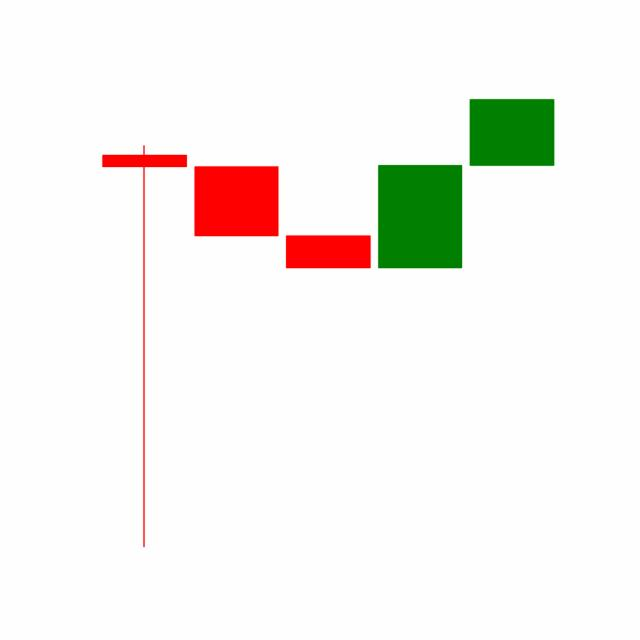Marubozu: (464, 97, 558, 166)
